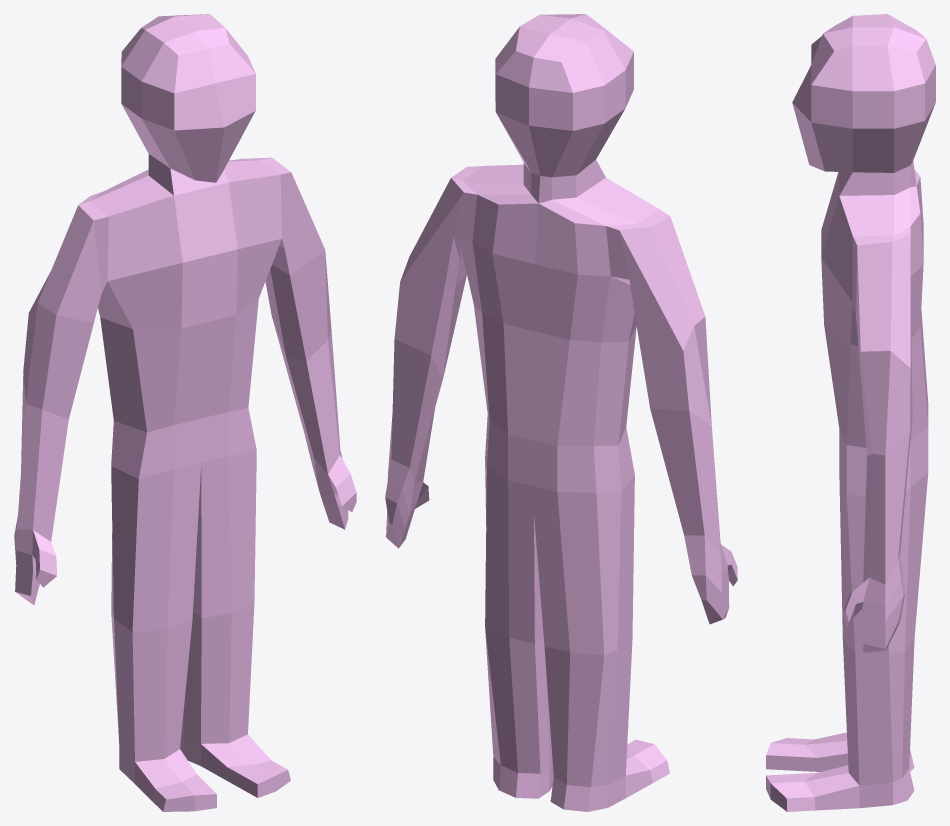
The model's file is poly-man.gltf.
The picture shows the model from 3 angles, left to right: view 1: azimuth 30°, elevation 25°; view 2: azimuth 150°, elevation 25°; view 3: azimuth 270°, elevation 25°; orthographic projection. The views are drawn at different scales.
Parts seen in each view (by area): view 1: man.001; view 2: man.001; view 3: man.001.
Boxes of the visible parts, box(x1,y1,x2,y2) form: man.001: box(14, 14, 356, 811); man.001: box(385, 14, 737, 811); man.001: box(766, 14, 935, 811).
Size of the model in its own units: 6.17 by 13.35 by 2.73.
